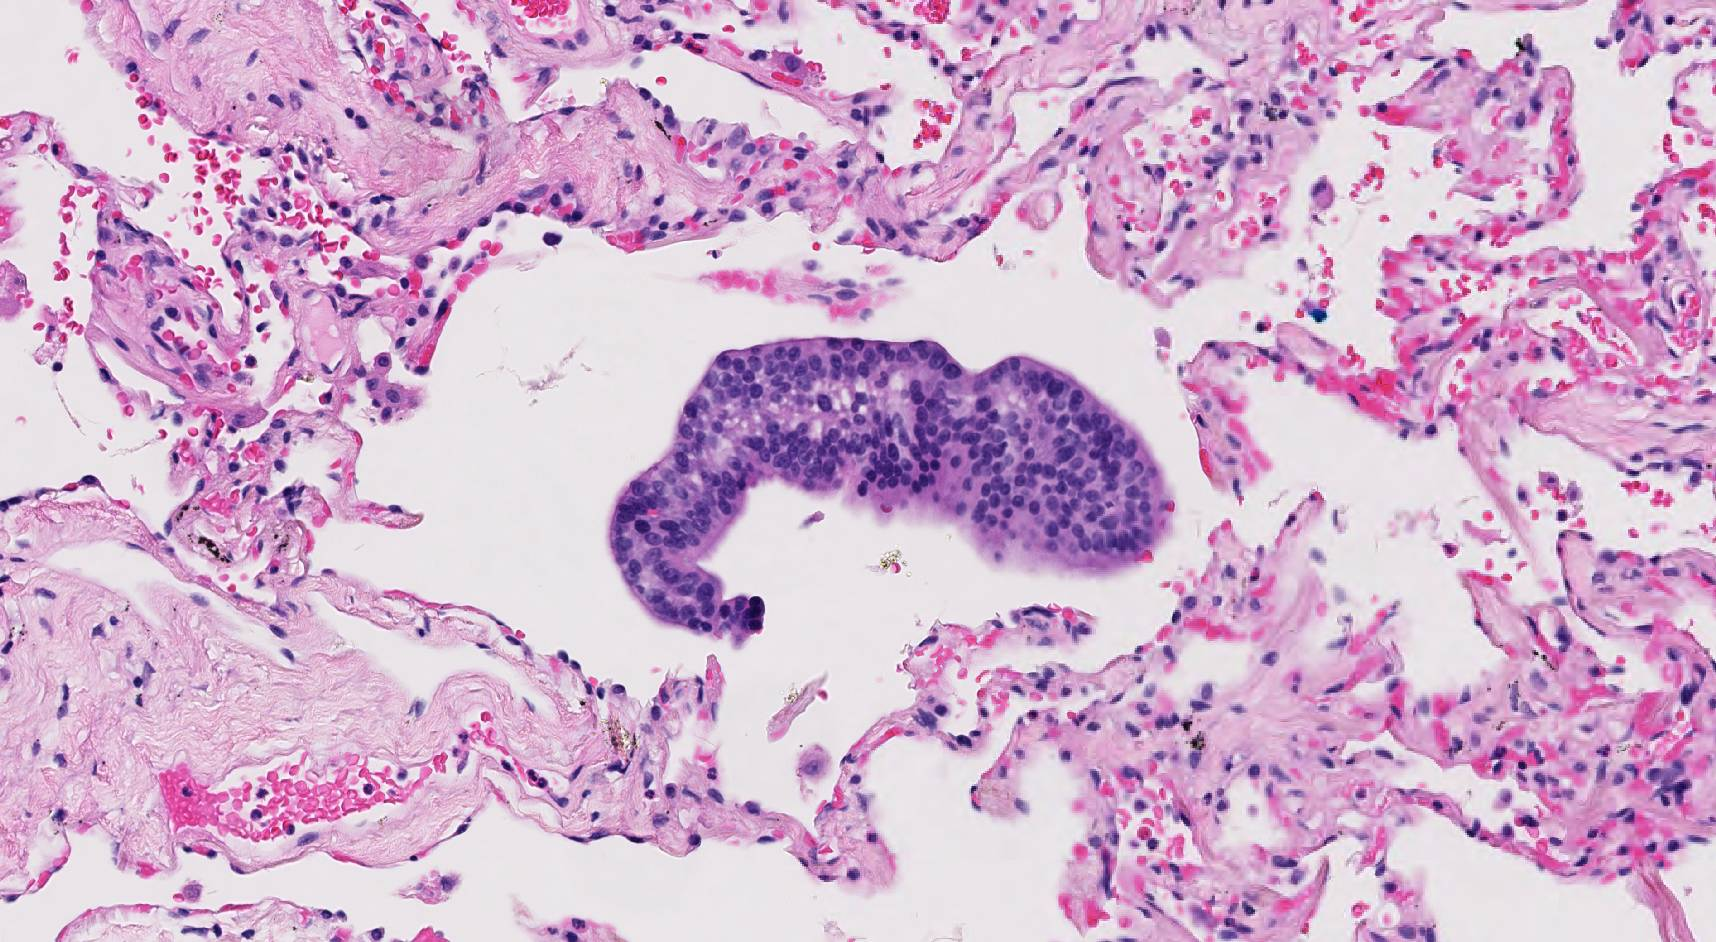stas: (606, 333, 1180, 648)
